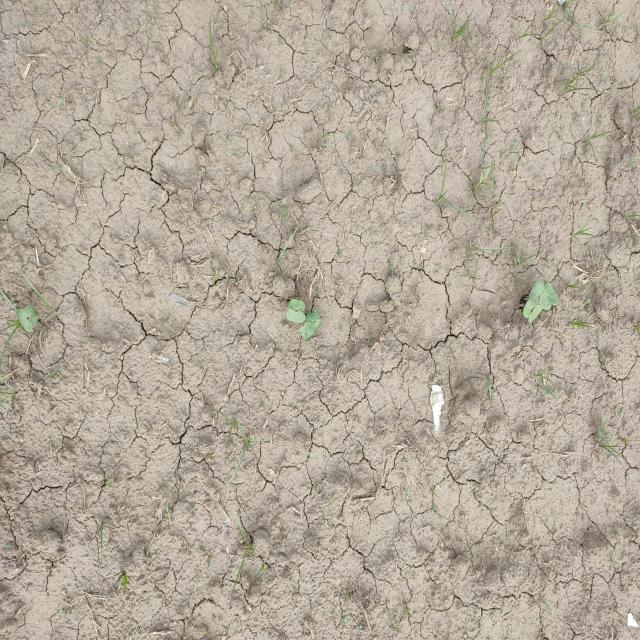seedling: (529, 280, 545, 307), (16, 309, 33, 332), (545, 283, 559, 305), (286, 309, 306, 323), (25, 305, 38, 325), (540, 289, 552, 310), (528, 304, 541, 323), (307, 319, 322, 335), (298, 327, 312, 342), (288, 299, 305, 311), (306, 310, 320, 324), (523, 299, 533, 318)
